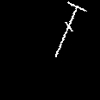double_crochet: (55, 2, 85, 56)
